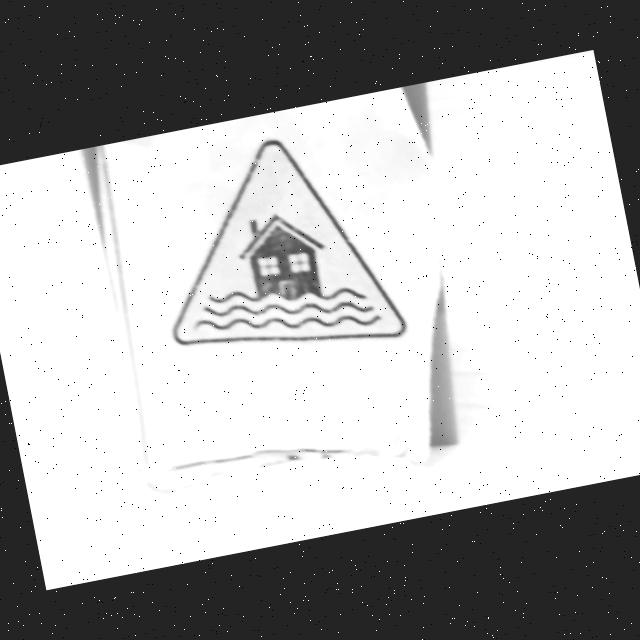Tsunami: (173, 139, 407, 345)
